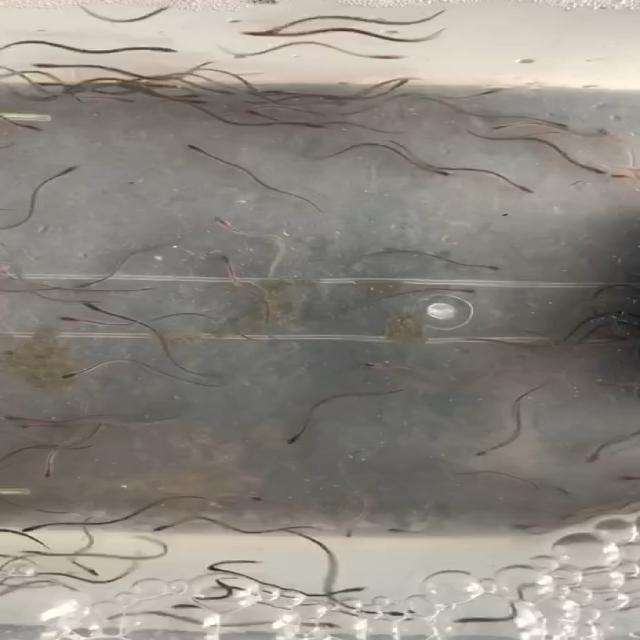active_glass_eel: (110, 38, 198, 61), (70, 293, 126, 317), (579, 163, 640, 184), (176, 141, 223, 167), (474, 84, 520, 104), (303, 618, 352, 636), (204, 214, 243, 236), (51, 160, 85, 185), (418, 160, 454, 183), (505, 180, 543, 201), (5, 518, 41, 539), (364, 50, 408, 67), (228, 24, 266, 43), (11, 117, 47, 137), (64, 278, 109, 294), (469, 259, 512, 275), (14, 59, 73, 70), (50, 313, 84, 332), (464, 444, 494, 465), (54, 364, 82, 386), (386, 74, 422, 91), (206, 256, 244, 272), (442, 284, 480, 300), (138, 519, 170, 538), (281, 435, 313, 453), (330, 529, 362, 547), (173, 93, 213, 107), (482, 118, 511, 136), (300, 116, 332, 131), (551, 486, 582, 501), (584, 453, 613, 469), (239, 104, 271, 118), (377, 608, 420, 618), (364, 360, 390, 376), (545, 118, 578, 130), (184, 594, 223, 604), (455, 616, 487, 628), (21, 549, 58, 559), (111, 89, 152, 98), (336, 585, 364, 598), (36, 470, 70, 480), (99, 612, 134, 621), (78, 566, 102, 578), (168, 604, 200, 613), (258, 25, 286, 35), (388, 526, 415, 536), (0, 413, 23, 424), (6, 421, 40, 428), (616, 474, 632, 486)
